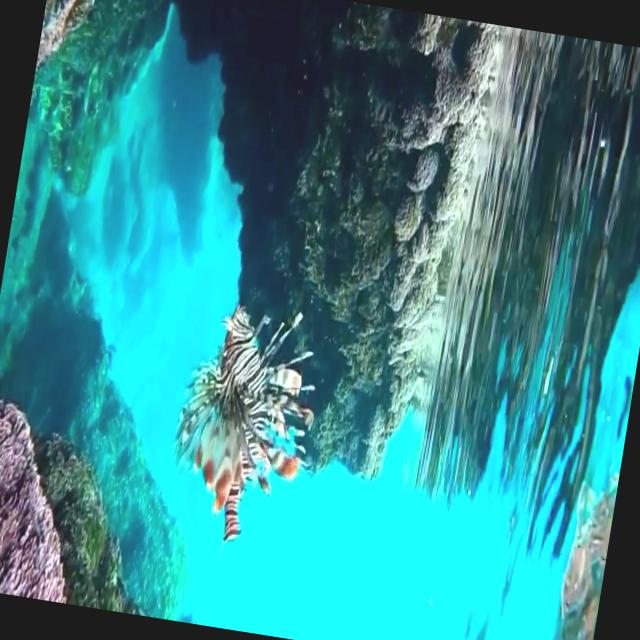Aslan Baligi: (158, 291, 334, 556)
